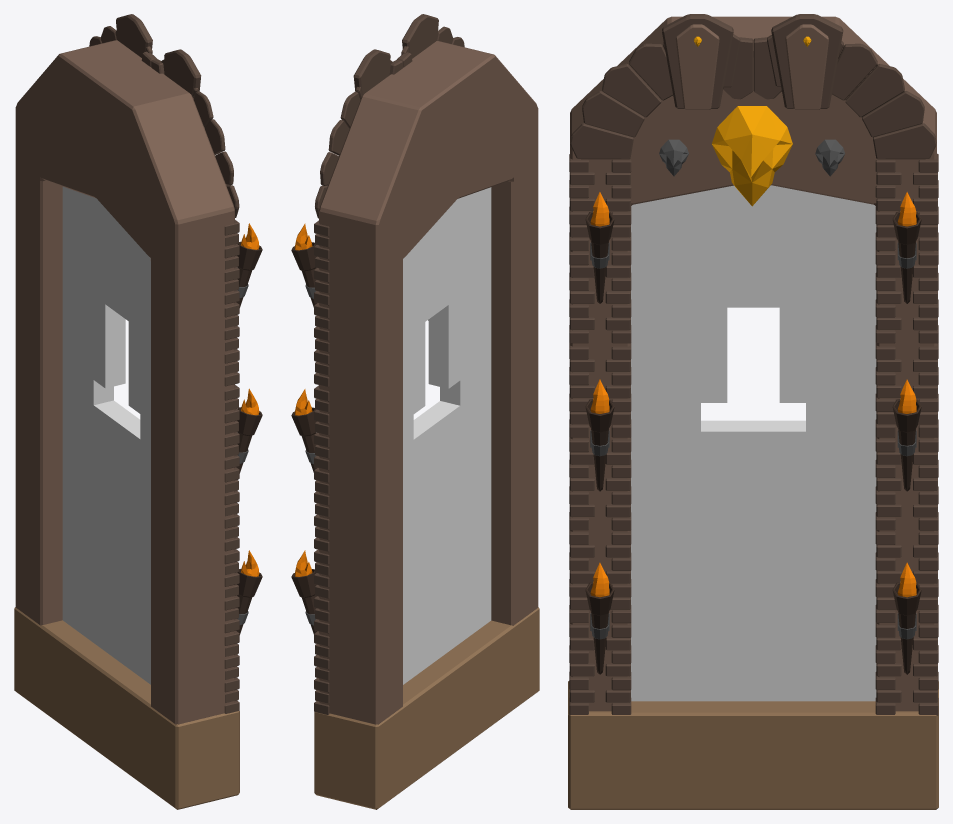
The model's file is wall_004.fbx.
The picture shows the model from 3 angles, left to right: view 1: azimuth 30°, elevation 25°; view 2: azimuth 150°, elevation 25°; view 3: azimuth 270°, elevation 25°; orthographic projection. The views are drawn at different scales.
Parts seen in each view (by area): view 1: Collection|Block_wo_Wand_verschwindet_L_wall_border.blend|Du, Plane.003, Cube; view 2: Collection|Block_wo_Wand_verschwindet_L_wall_border.blend|Du, Plane.003, Cube; view 3: Collection|Block_wo_Wand_verschwindet_L_wall_border.blend|Du, Plane.003, Cube.
Part boxes in pixels (bbox=[...]): Collection|Block_wo_Wand_verschwindet_L_wall_border.blend|Du: bbox=[14, 14, 262, 809]; Plane.003: bbox=[62, 186, 150, 684]; Cube: bbox=[93, 400, 140, 459]; Collection|Block_wo_Wand_verschwindet_L_wall_border.blend|Du: bbox=[291, 14, 539, 809]; Plane.003: bbox=[403, 187, 491, 684]; Cube: bbox=[413, 401, 460, 460]; Collection|Block_wo_Wand_verschwindet_L_wall_border.blend|Du: bbox=[568, 14, 938, 809]; Plane.003: bbox=[631, 185, 876, 701]; Cube: bbox=[701, 420, 805, 450].
Bounding box in the file's own units: 48.98 × 333 × 141.
